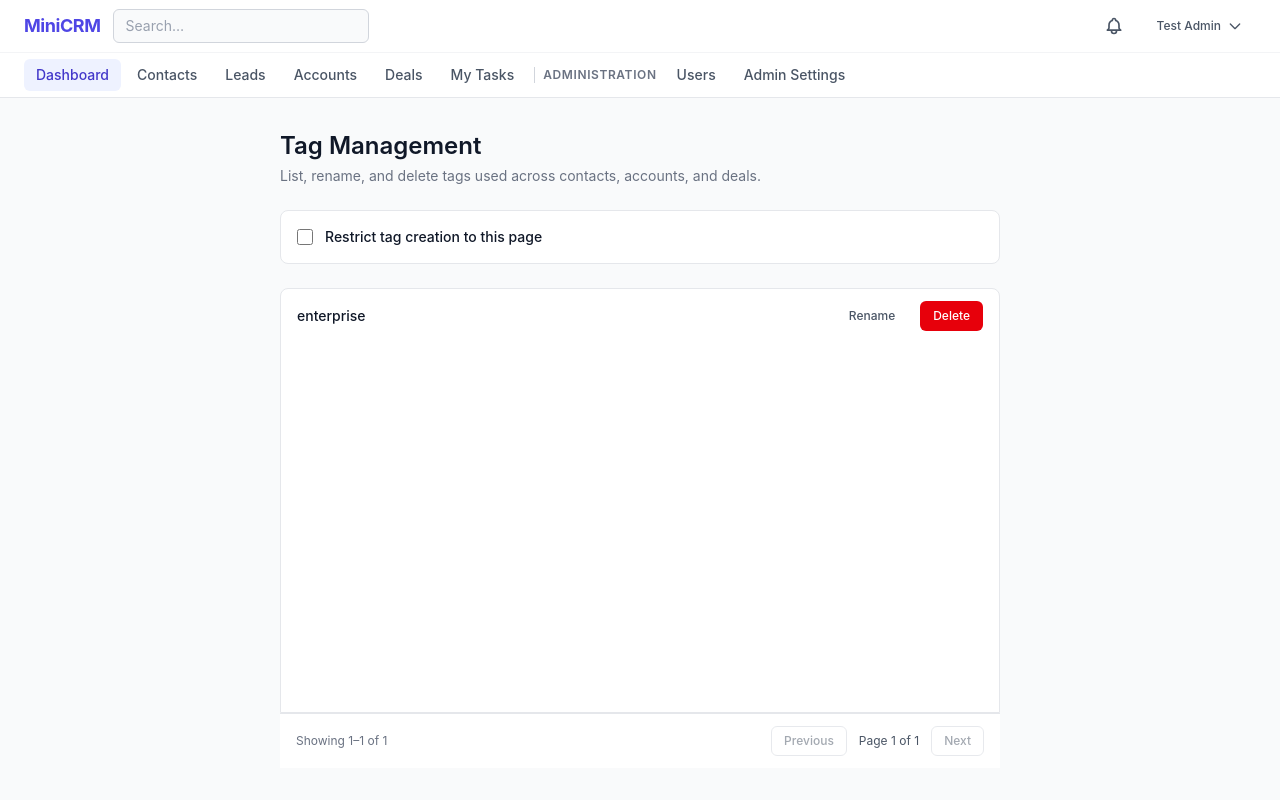
Test: AdminTagsPage › shows validation error when rename input is empty
The image size is (1280, 800).
Click the button "Rename".
click(872, 316)  # box [836,301,908,331]
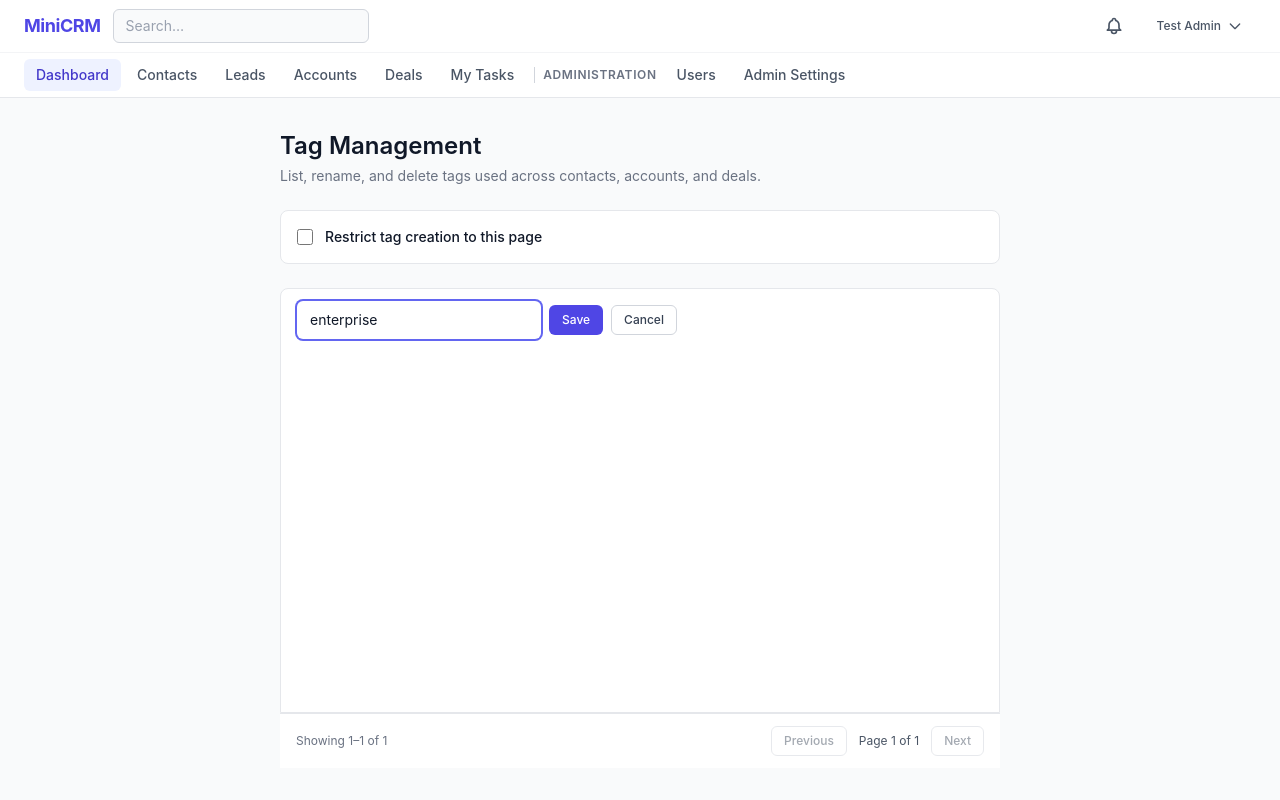
Clear the field named "New tag name" at x=419, y=320, box [297,301,541,339]
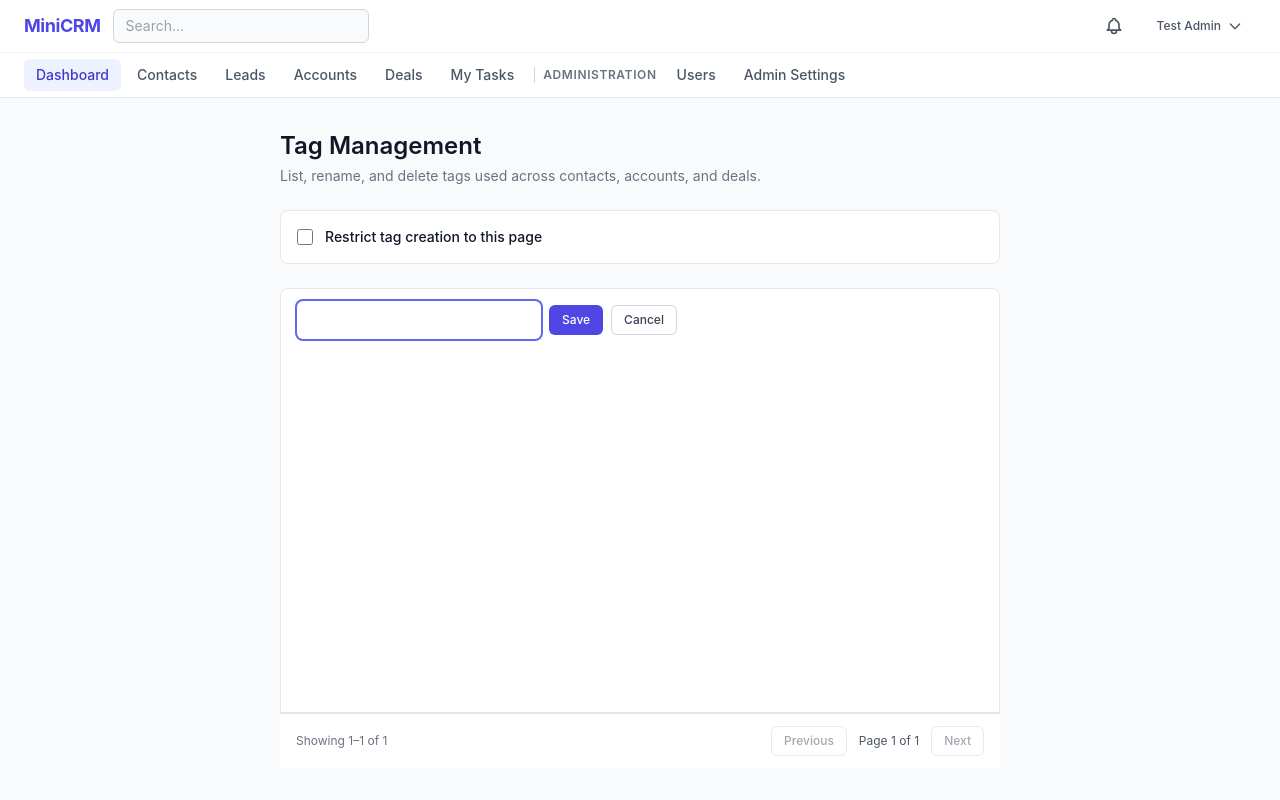
Click the button "Save".
click(576, 320)  # box [549,305,603,335]
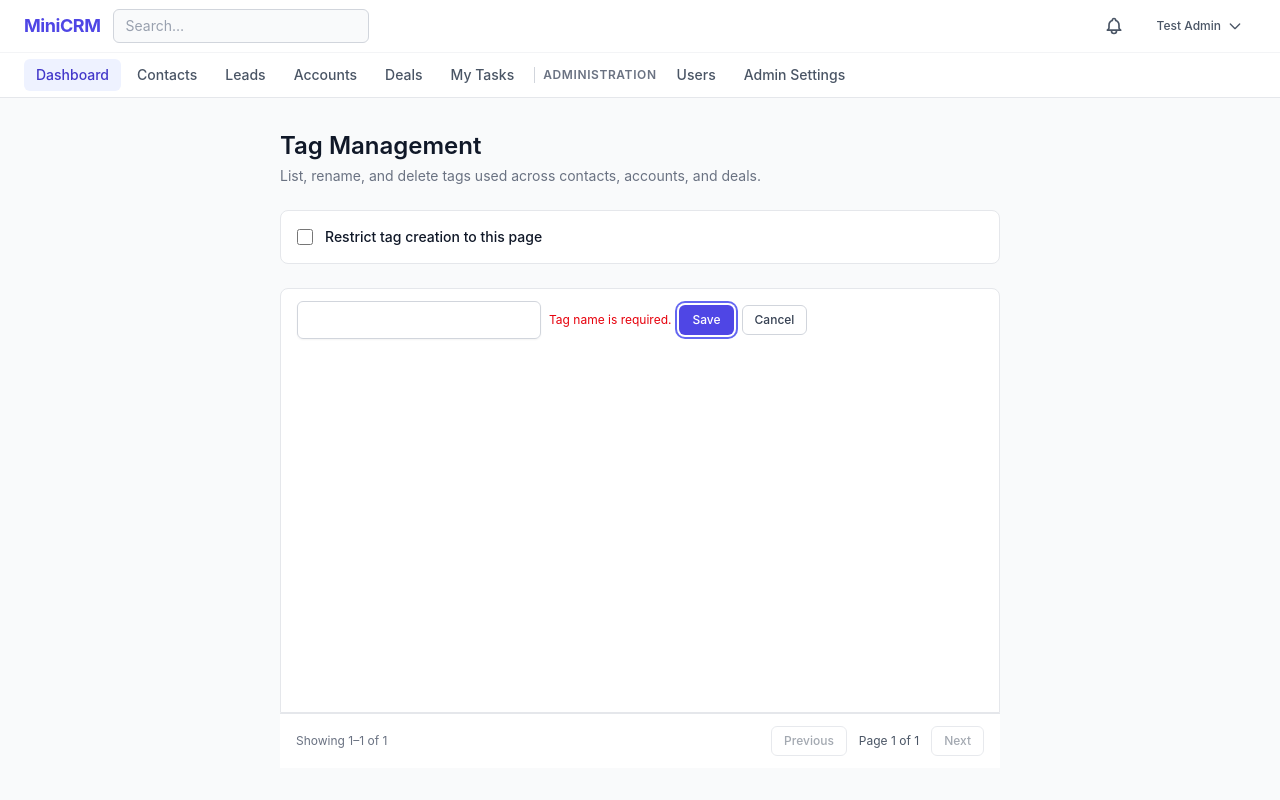
expect the message "Tag name is required." is shown: met, box [549,312,672,328]
